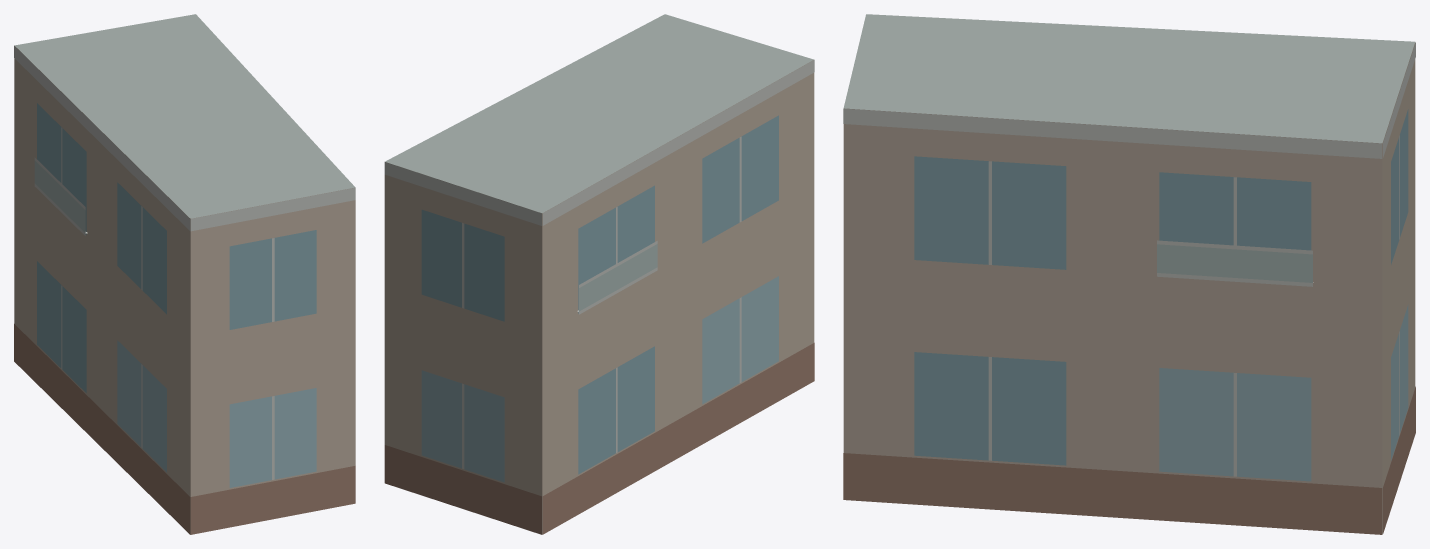
File: survey-upis-32621517.glb
3 views of the same model, side by side, from view 1: azimuth 30°, elevation 25°; view 2: azimuth 150°, elevation 25°; view 3: azimuth 270°, elevation 25° (orthographic). The views are drawn at different scales.
Visible parts, largest first — view 1: survey-upis-32621517.tmp; view 2: survey-upis-32621517.tmp; view 3: survey-upis-32621517.tmp.
Boxes of the visible parts, x1=… form: survey-upis-32621517.tmp: x1=14, y1=14, x2=355, y2=534; survey-upis-32621517.tmp: x1=384, y1=14, x2=814, y2=534; survey-upis-32621517.tmp: x1=843, y1=14, x2=1415, y2=534.
Bounding box in the file's own units: 4.33 × 6.1 × 8.09.
